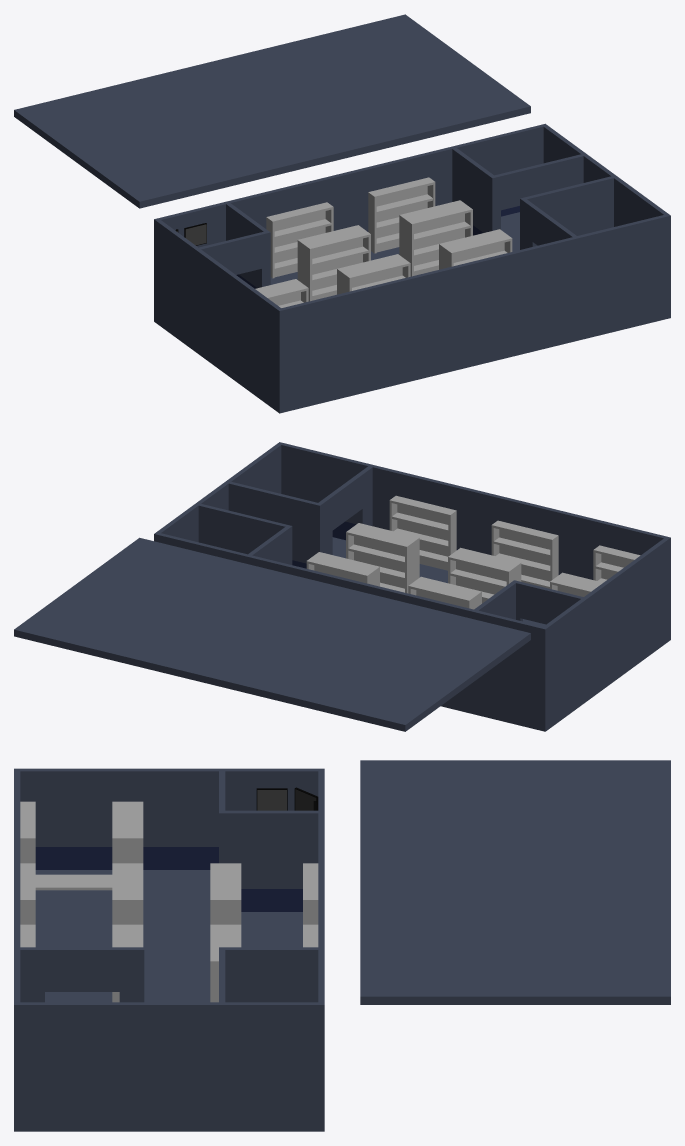
The model's file is game desaign.fbx.
The picture shows the model from 3 angles, top to bottom: view 1: azimuth 30°, elevation 25°; view 2: azimuth 150°, elevation 25°; view 3: azimuth 270°, elevation 25°; orthographic projection. The views are drawn at different scales.
Parts seen in each view (by area): view 1: pCube1, pCube2, pCube5, pCube9, pCube8, pCube4, pCube10, pCube12, pCube19, pCube6, pCube7; view 2: pCube1, pCube2, pCube15, pCube14, pCube13, pCube11, pCube17, pCube6, pCube7, pCube12, pCube18, pCube8 (+2 smaller); view 3: pCube1, pCube2, pCube20, pCube18, pCube7, pCube11, pCube17, pCube19, pCube4, pCube9, pCube10, pCube14 (+2 smaller).
Part boxes in pixels (box(x1,y1,x2,y2)): pCube1: box(154, 123, 670, 413); pCube2: box(14, 14, 530, 208); pCube5: box(368, 177, 435, 253); pCube9: box(303, 229, 370, 301); pCube8: box(405, 205, 472, 276); pCube4: box(266, 202, 333, 278); pCube10: box(343, 258, 410, 292); pCube12: box(445, 234, 512, 267); pCube19: box(261, 283, 308, 307); pCube6: box(399, 200, 466, 259); pCube7: box(297, 225, 364, 283); pCube1: box(154, 442, 670, 731); pCube2: box(14, 537, 530, 731); pCube15: box(389, 495, 456, 570); pCube14: box(491, 520, 558, 588); pCube13: box(346, 527, 413, 593); pCube11: box(448, 552, 515, 603); pCube17: box(593, 545, 640, 582); pCube6: box(306, 556, 373, 584); pCube7: box(408, 581, 475, 609); pCube12: box(352, 523, 419, 581); pCube18: box(550, 577, 596, 596); pCube8: box(313, 552, 379, 586); pCube1: box(14, 768, 324, 1131); pCube2: box(360, 760, 670, 1004); pCube20: box(35, 874, 112, 890); pCube18: box(127, 801, 143, 863); pCube7: box(225, 863, 241, 924); pCube11: box(127, 863, 143, 924); pCube17: box(20, 801, 35, 863); pCube19: box(112, 801, 127, 863); pCube4: box(303, 863, 318, 924); pCube9: box(210, 863, 225, 924); pCube10: box(112, 863, 127, 924); pCube14: box(20, 863, 35, 924).
Size of the model in its own units: 18 by 4.8 by 21.15.
